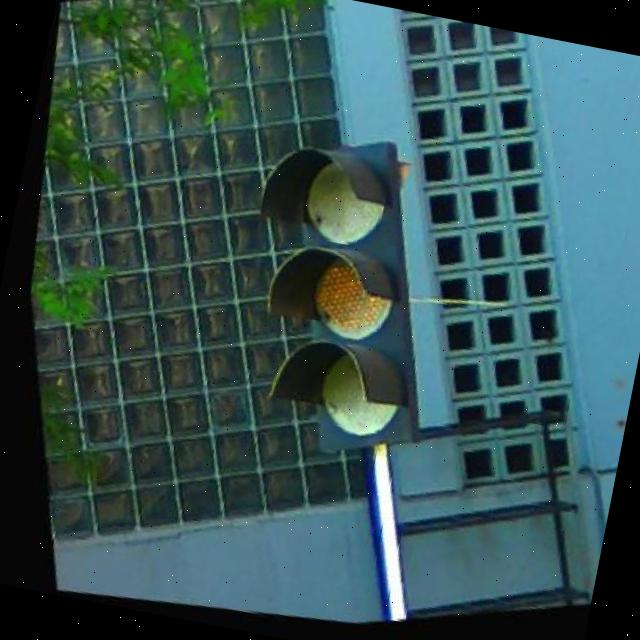yellow_light: (192, 114, 472, 487)
